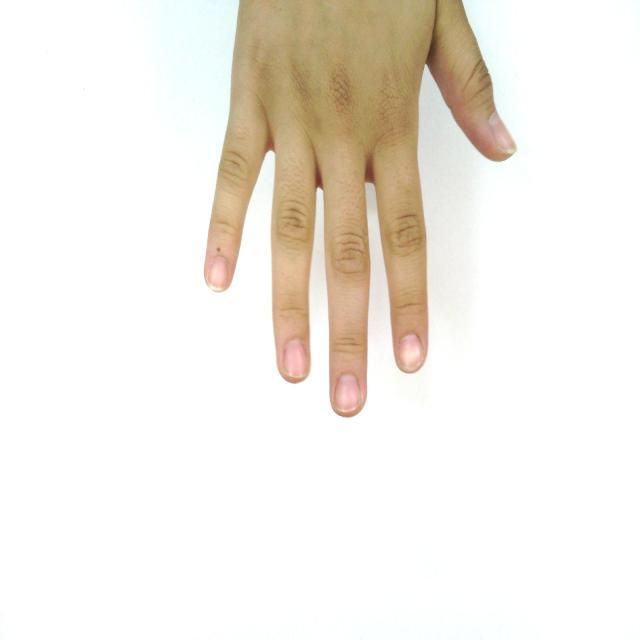Fingernail: (491, 114, 516, 154), (335, 375, 360, 411), (399, 334, 422, 370), (284, 341, 306, 377), (207, 256, 228, 290)
